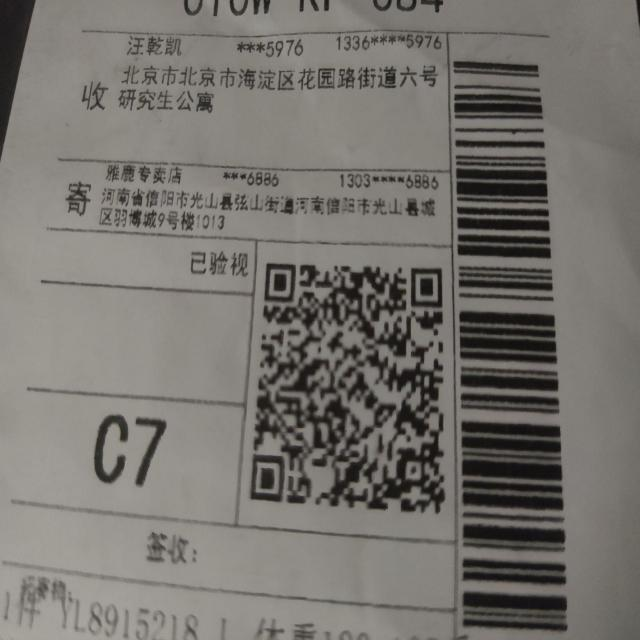qr_code: (251, 263, 446, 515)
